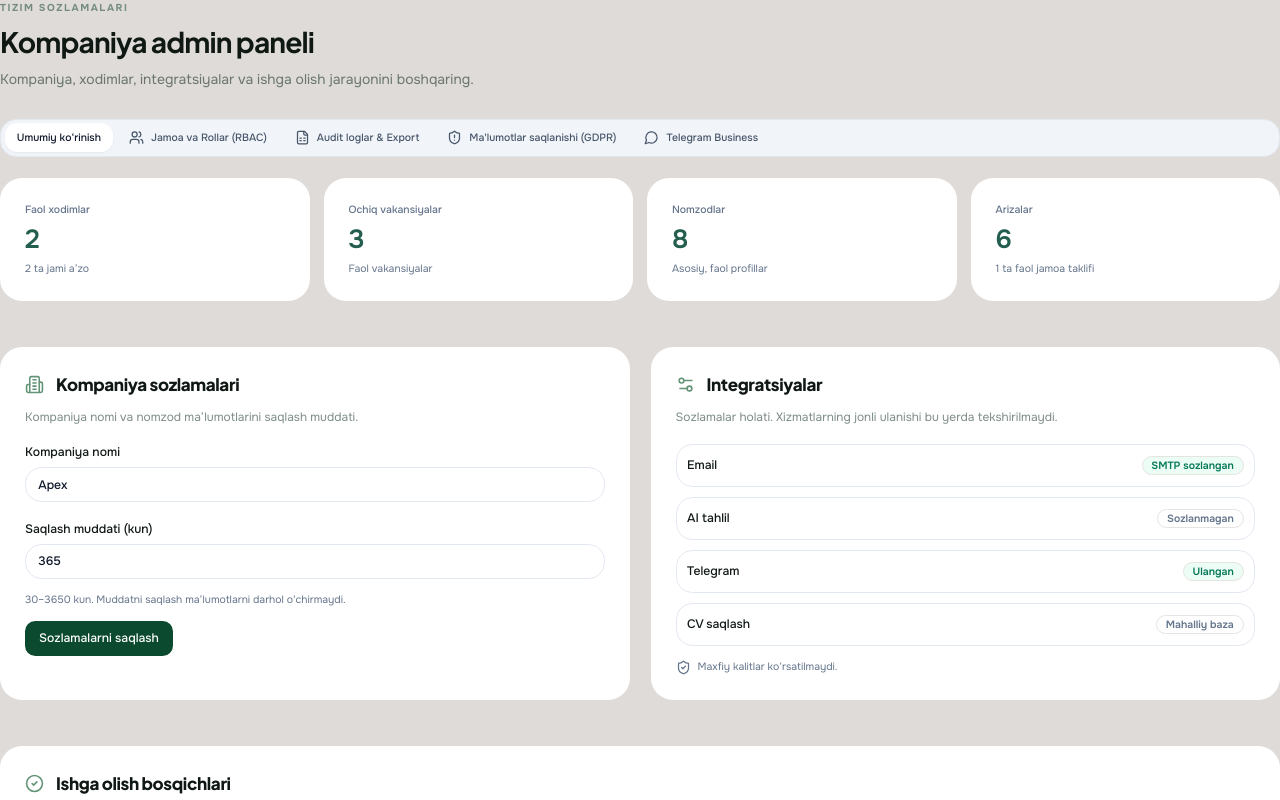
Test: Settings Hub (RBAC, Audit Logs, Retention, Telegram) › displays team members and their RBAC role badges
Step 1. Click the tab "Jamoa va Rollar (RBAC)" → (198, 138), box [117,123,279,152]
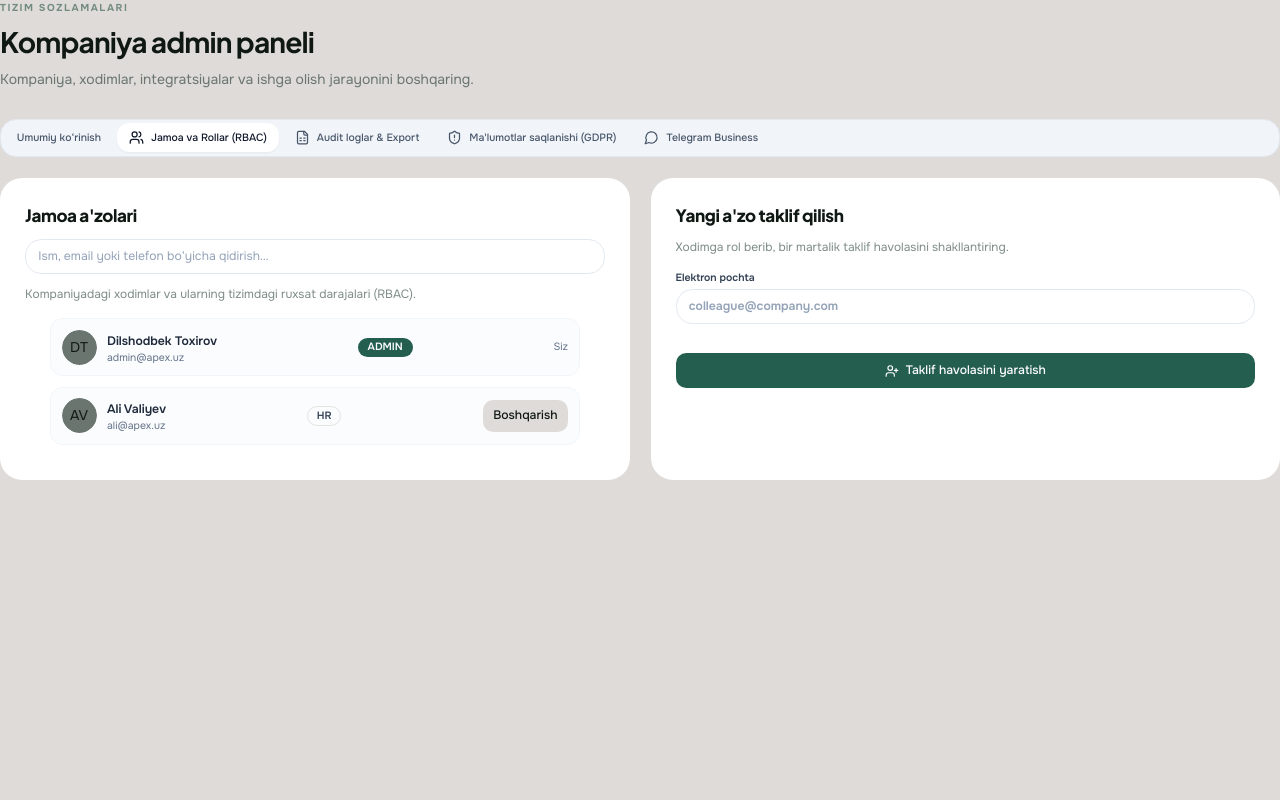
Now the text "Dilshodbek Toxirov" is shown, box [107,333,217,349]
Now the text "admin@apex.uz" is shown, box [107,351,184,364]
Now the text "Ali Valiyev" is shown, box [107,402,166,418]
